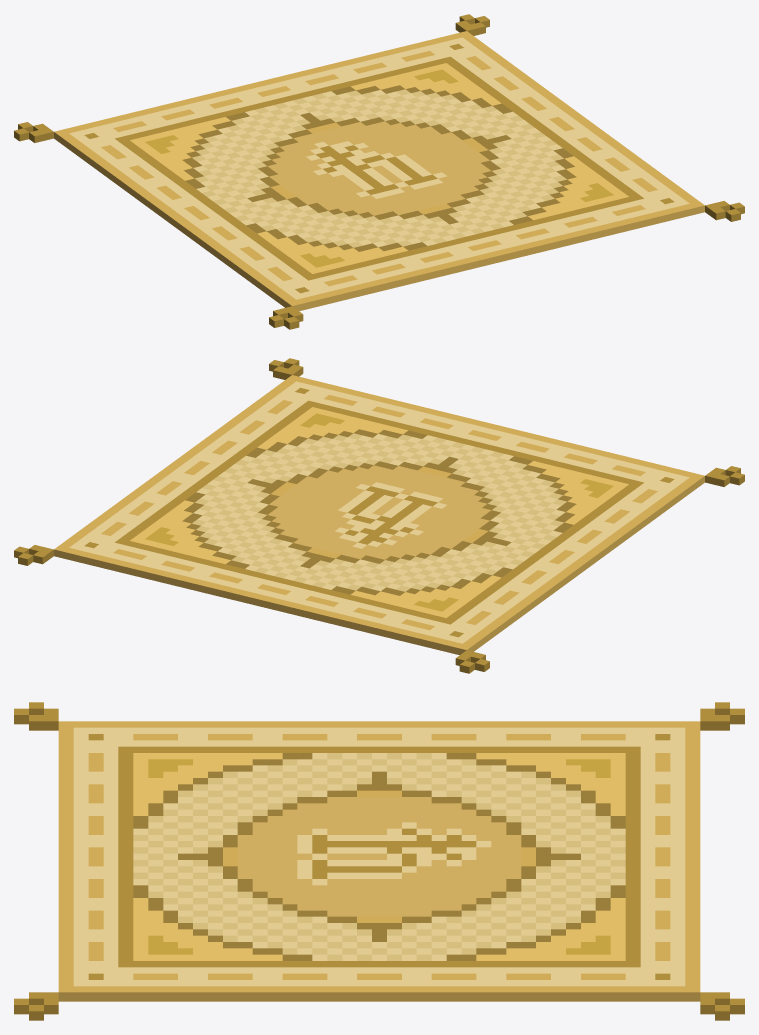
The model's file is PixelRug - Gold Future - Limited Edition.glb.
3 renders of one model, top to bottom at view 1: azimuth 30°, elevation 25°; view 2: azimuth 150°, elevation 25°; view 3: azimuth 270°, elevation 25°, orthographic. The views are drawn at different scales.
Parts seen in each view (by area): view 1: Curve.802; view 2: Curve.802; view 3: Curve.802.
Boxes of the visible parts, x1,y1,x2,y2 form: Curve.802: (14,14,744,329); Curve.802: (14,358,744,673); Curve.802: (14,702,744,1020).
Size of the model in its own units: 0.8885 by 0.0123 by 0.8883.
